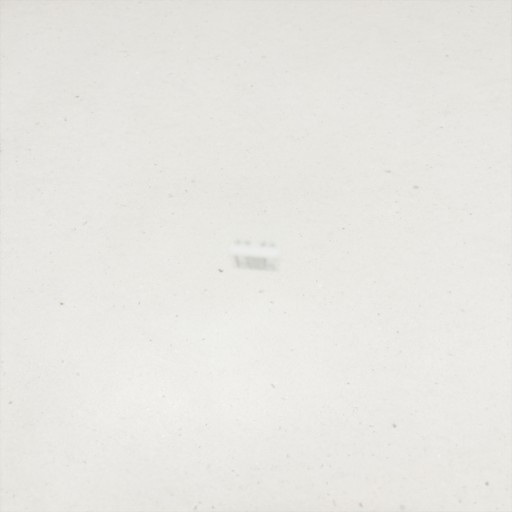lego: (229, 240, 281, 272)
